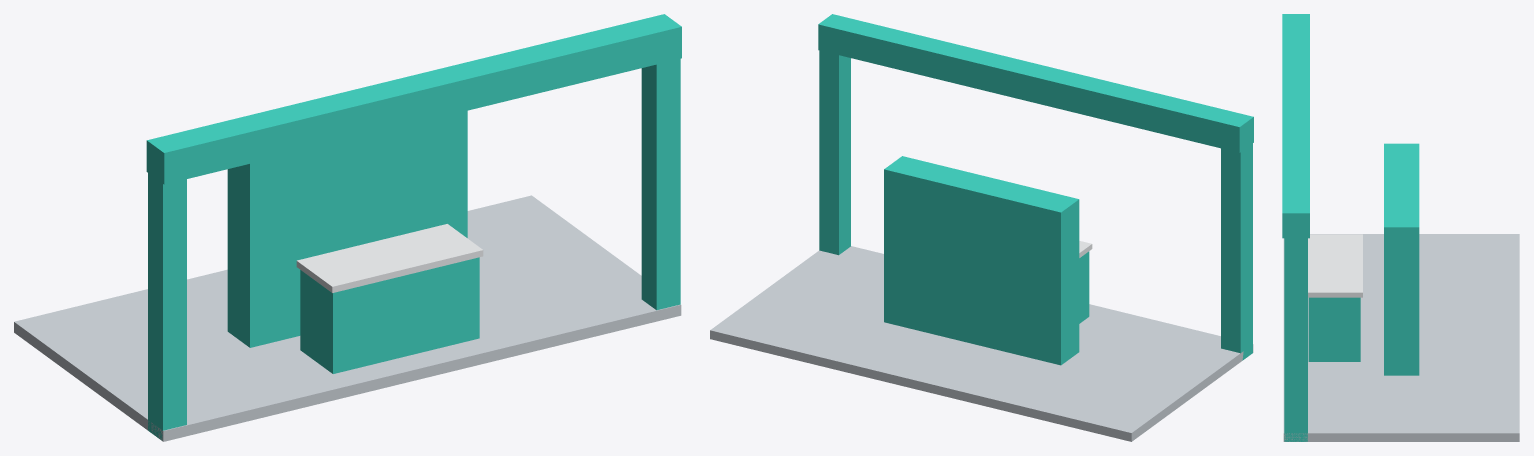
3 renders of one model, left to right at view 1: azimuth 30°, elevation 25°; view 2: azimuth 150°, elevation 25°; view 3: azimuth 270°, elevation 25°, orthographic. The views are drawn at different scales.
Parts seen in each view (by area): view 1: Exhibition Booth Concept; view 2: Exhibition Booth Concept; view 3: Exhibition Booth Concept.
Boxes of the visible parts, x1,y1,x2,y2 form: Exhibition Booth Concept: (14, 14, 681, 441); Exhibition Booth Concept: (710, 14, 1253, 441); Exhibition Booth Concept: (1282, 14, 1519, 441).
Bounding box in the file's own units: 6 × 3.2 × 3.01.
